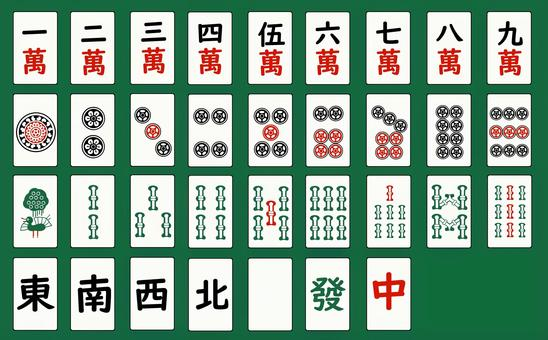b1: (12, 174, 58, 246)
b2: (70, 174, 116, 247)
b3: (130, 176, 175, 247)
b4: (188, 175, 233, 247)
b5: (248, 175, 291, 247)
b6: (307, 176, 350, 246)
b7: (367, 176, 410, 245)
b8: (427, 174, 478, 249)
b9: (487, 174, 533, 248)
c1: (10, 11, 57, 81)
c2: (69, 10, 116, 82)
c3: (130, 12, 174, 80)
c4: (188, 13, 232, 83)
c5: (246, 10, 292, 83)
c6: (308, 14, 351, 81)
c7: (365, 11, 410, 81)
c8: (427, 13, 472, 84)
c9: (487, 12, 532, 84)
d1: (13, 92, 59, 166)
d2: (71, 95, 115, 165)
d3: (133, 93, 173, 165)
d4: (188, 93, 232, 167)
d5: (248, 93, 293, 166)
d6: (304, 93, 351, 167)
d7: (365, 93, 410, 166)
d8: (425, 93, 474, 166)
d9: (486, 95, 531, 165)
dg: (306, 257, 349, 329)
dr: (367, 256, 413, 331)
dw: (247, 257, 296, 333)
we: (12, 256, 58, 329)
wn: (187, 257, 232, 330)
ws: (69, 256, 116, 330)
ww: (130, 259, 176, 329)
